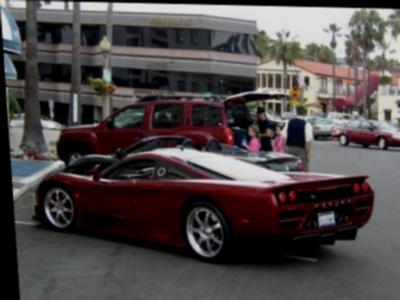License_Plate: (314, 210, 339, 231)
